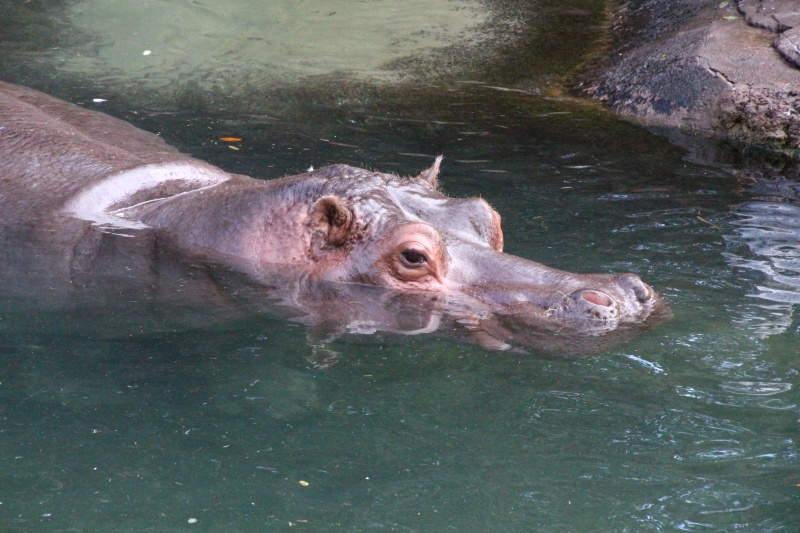hipopotamo: (0, 65, 683, 397)
